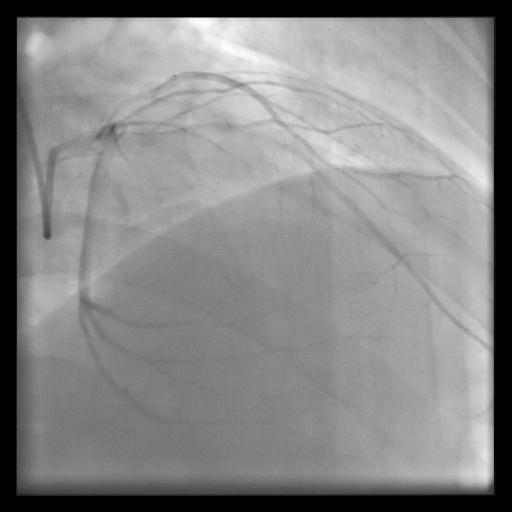Stenosis: (101, 96, 143, 117)
